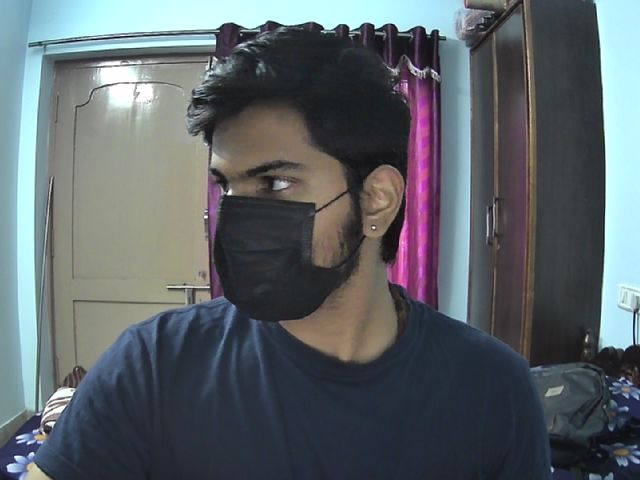Mask: (212, 197, 375, 320)
